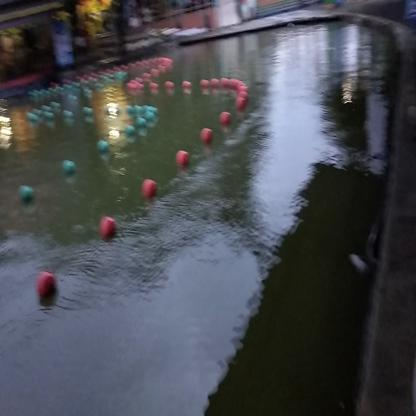green_buoy: (20, 189, 32, 205), (64, 160, 74, 175), (147, 110, 156, 126), (99, 142, 109, 152), (126, 127, 134, 138), (138, 118, 146, 128)
red_buoy: (36, 272, 56, 303), (102, 218, 116, 238), (176, 149, 189, 167), (145, 179, 157, 197), (201, 127, 212, 143), (220, 110, 231, 125), (235, 95, 244, 110)
